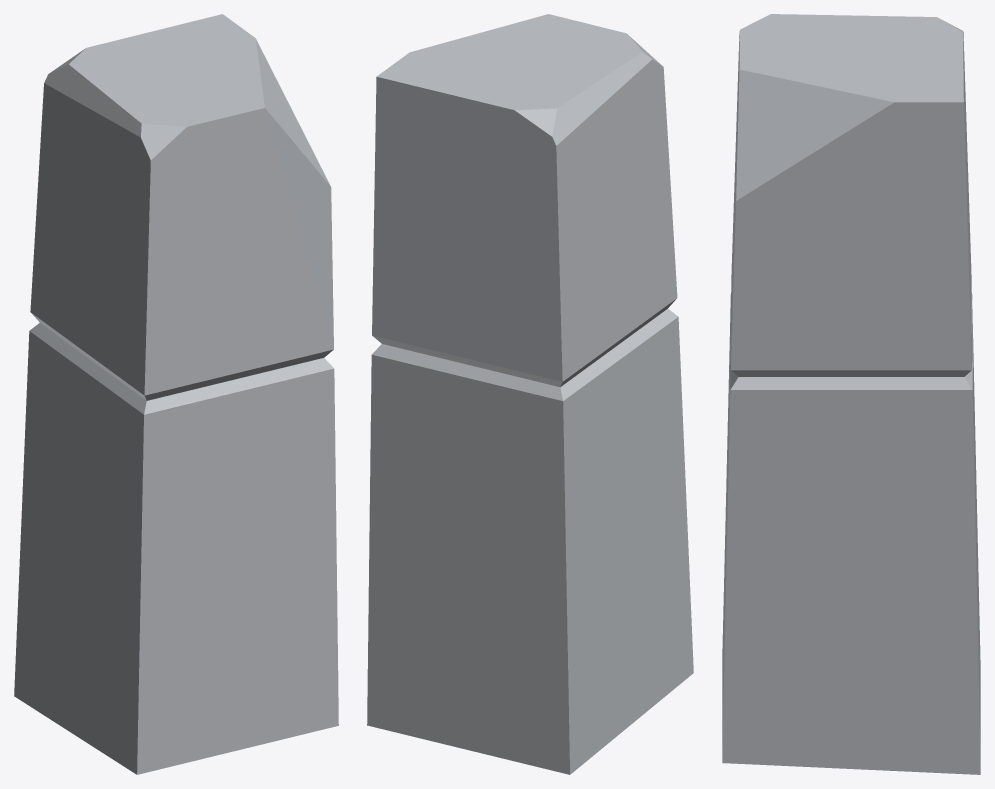
The model's file is Rock_Square_l_12.fbx.
3 views of the same model, side by side, from view 1: azimuth 30°, elevation 25°; view 2: azimuth 150°, elevation 25°; view 3: azimuth 270°, elevation 25° (orthographic). The views are drawn at different scales.
Parts seen in each view (by area): view 1: Rock_Square_l_12; view 2: Rock_Square_l_12; view 3: Rock_Square_l_12.
Part boxes in pixels (left/top/right/bottom): Rock_Square_l_12: left=14, top=14, right=338, bottom=774; Rock_Square_l_12: left=367, top=14, right=693, bottom=774; Rock_Square_l_12: left=722, top=14, right=980, bottom=774.
Size of the model in its own units: 1.27 by 3.83 by 1.34.
